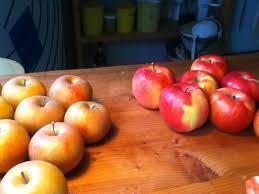apple: (158, 84, 214, 132), (35, 123, 92, 162), (5, 162, 71, 194), (206, 87, 253, 131), (67, 102, 117, 141), (133, 63, 175, 108), (47, 72, 91, 106), (3, 118, 31, 169), (179, 70, 222, 96), (6, 78, 46, 104), (219, 68, 257, 95), (190, 55, 228, 81)
